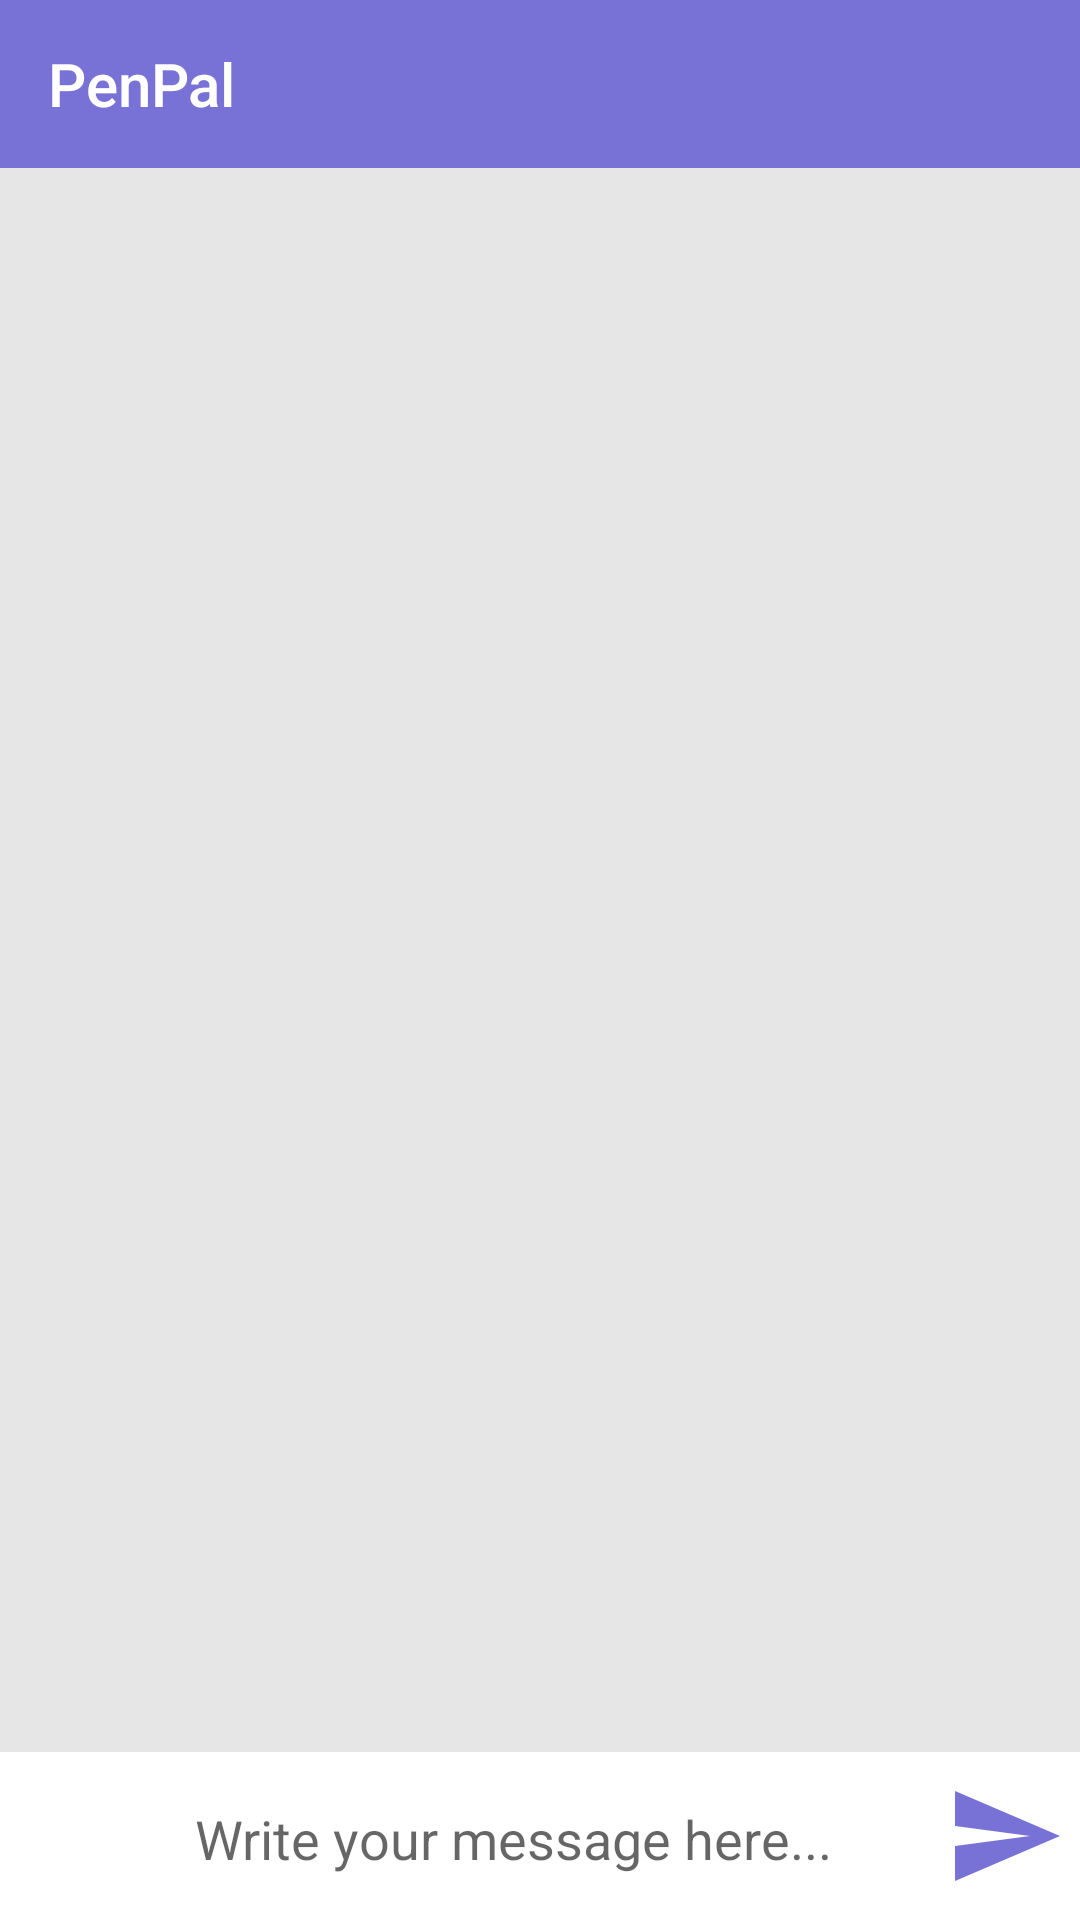

Named icons in this screenshot (1080x1920) and their centers, [x,y]:
send: [1007,1836]
